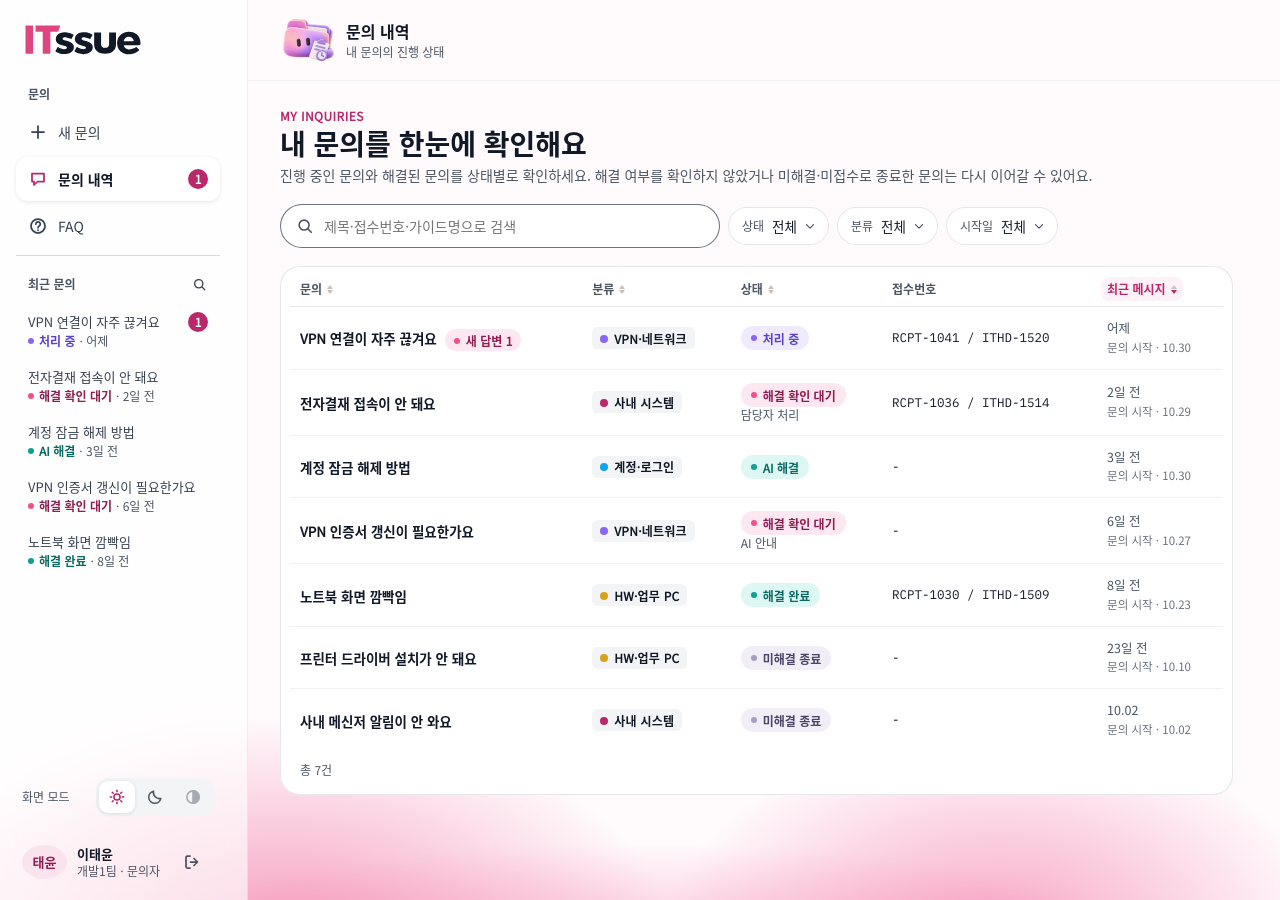
Test case: 문의 내역 화면 › 검색어는 강조되고, 맞는 문의가 없으면 조건에 맞는 문의가 없다고 알린다
Expected: the table is shown, [290, 272, 1223, 750]
Step 1. Type "VPN" into the field named "내 문의 검색" → (517, 226), box [324, 216, 710, 236]
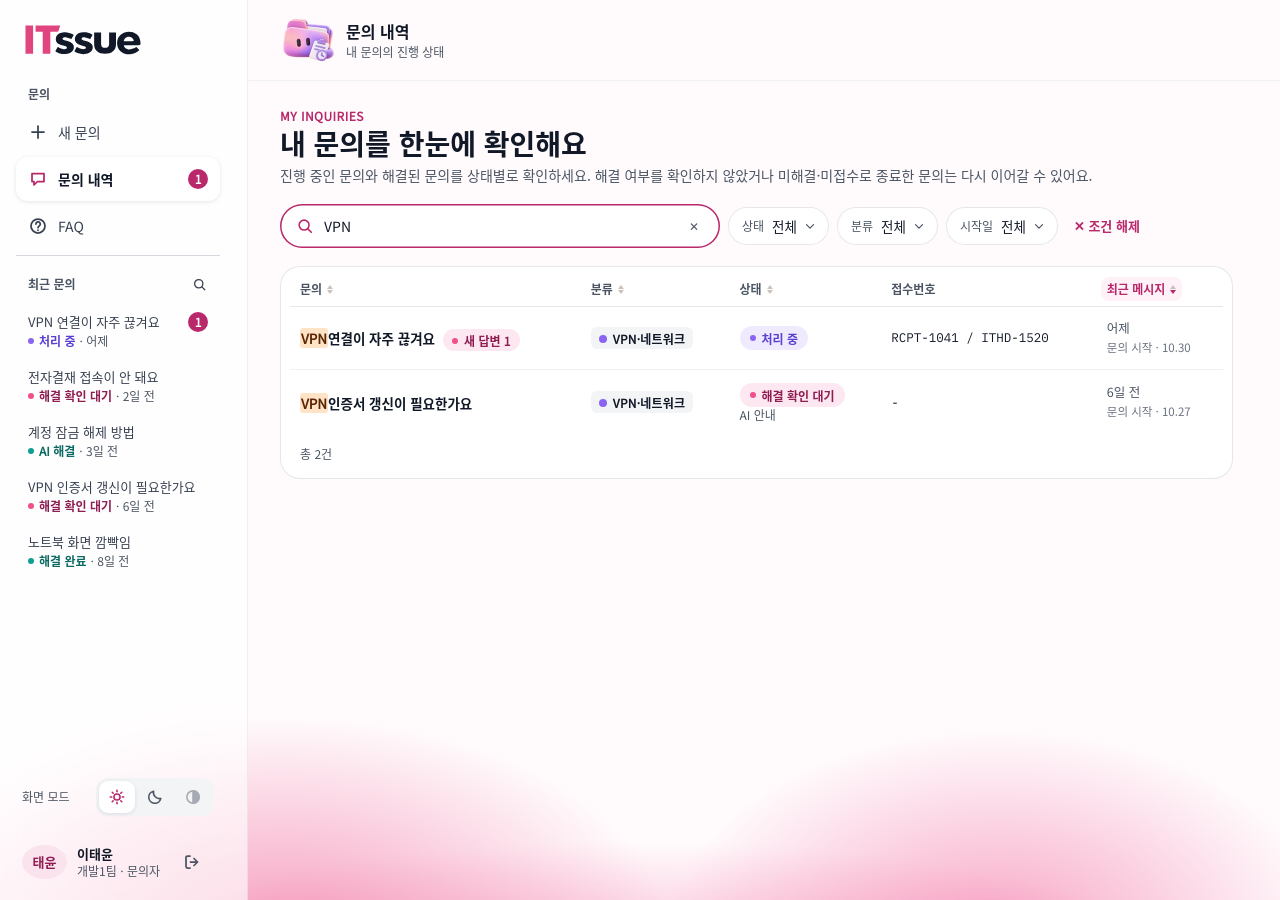
Expected: the text "VPN" in the row of "새 답변" is shown, [300, 328, 328, 348]
Step 2. Clear the field named "내 문의 검색" → (496, 226), box [324, 216, 668, 236]
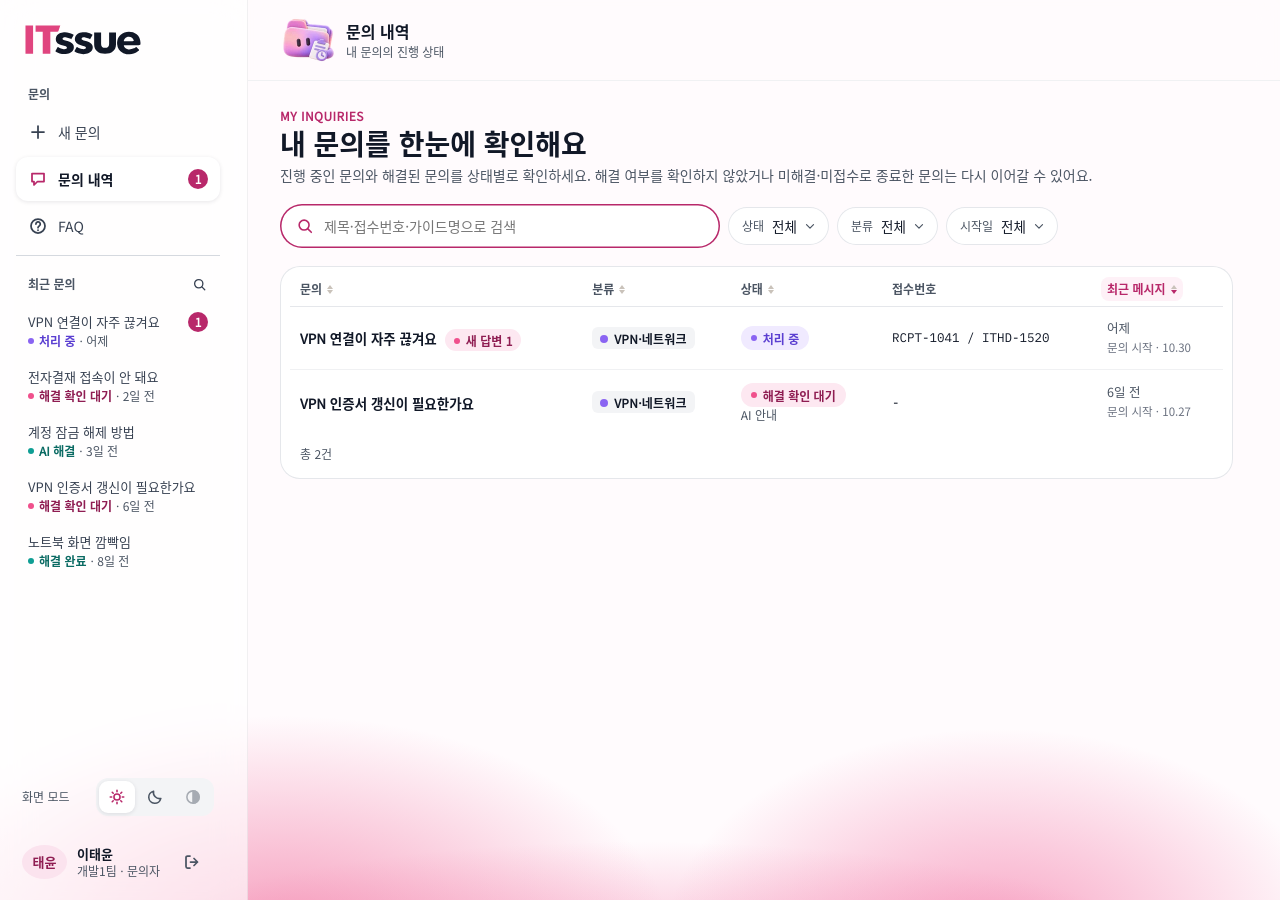
Step 3. Type "없는말없는말" into the field named "내 문의 검색" → (517, 226), box [324, 216, 710, 236]
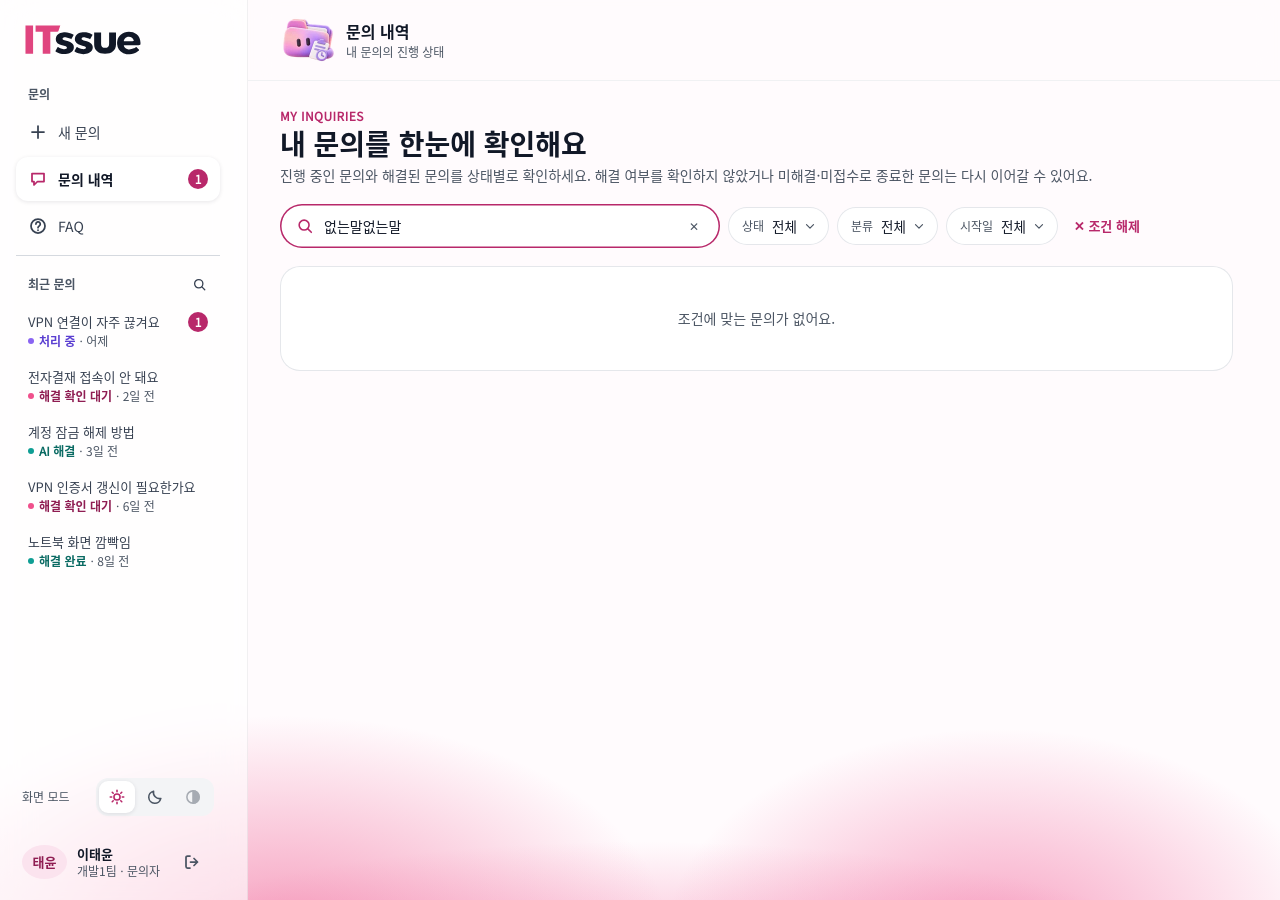
Now the text "조건에 맞는 문의가 없어요." is shown, box [678, 308, 835, 328]
